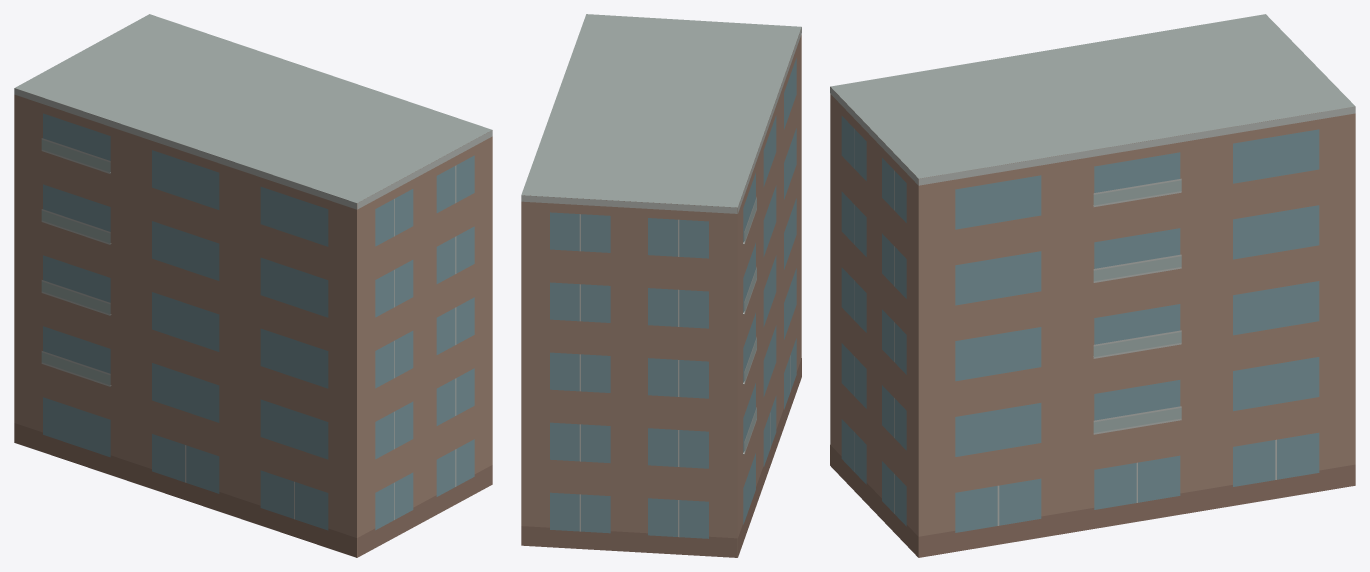
Rendered from survey-upis-32954641.glb.
The picture shows the model from 3 angles, left to right: view 1: azimuth 30°, elevation 25°; view 2: azimuth 150°, elevation 25°; view 3: azimuth 270°, elevation 25°; orthographic projection. The views are drawn at different scales.
Parts seen in each view (by area): view 1: survey-upis-32954641.tmp; view 2: survey-upis-32954641.tmp; view 3: survey-upis-32954641.tmp.
Part boxes in pixels (x1=…): survey-upis-32954641.tmp: x1=14, y1=14, x2=492, y2=557; survey-upis-32954641.tmp: x1=521, y1=14, x2=801, y2=557; survey-upis-32954641.tmp: x1=830, y1=14, x2=1355, y2=557.
Size of the model in its own units: 12.4 by 13.3 by 16.72.
